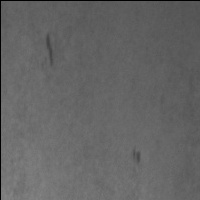inclusion: (41, 30, 59, 71), (130, 144, 145, 167)
